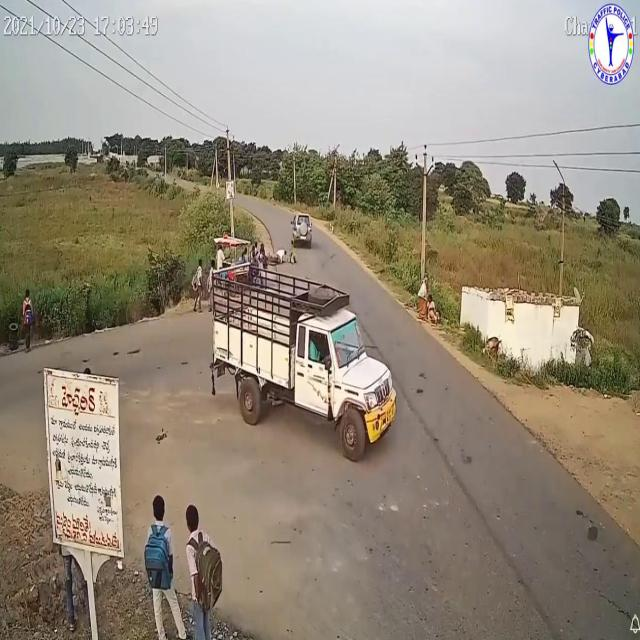accident: (265, 212, 319, 272)
